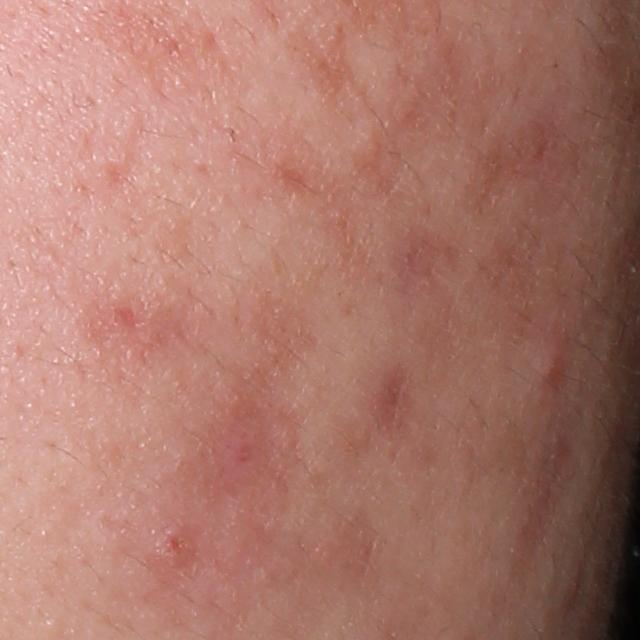atrophic_scar: (112, 303, 140, 334)
papule: (154, 523, 205, 571), (531, 342, 574, 394)
